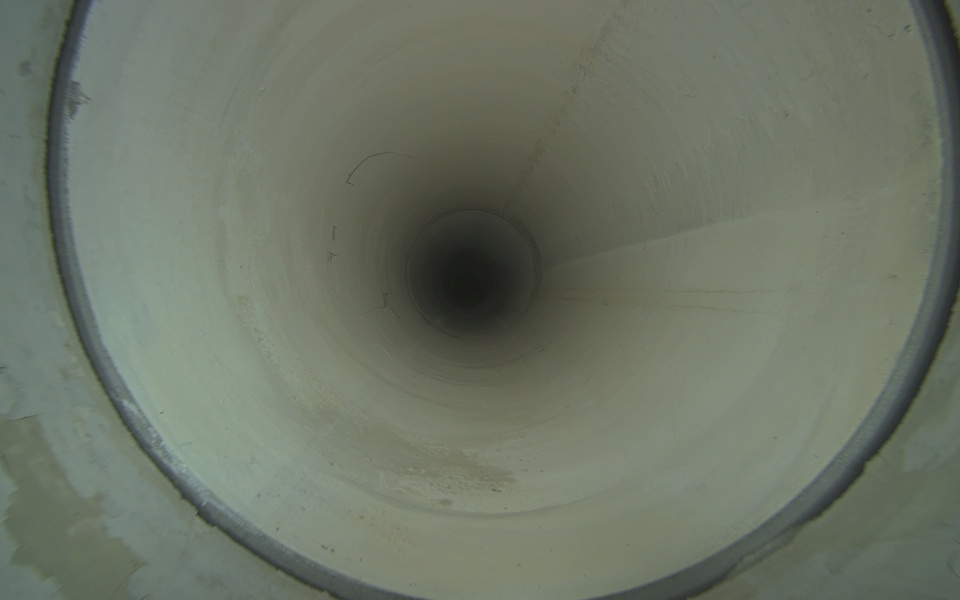circle1: (43, 0, 960, 600)
circle2: (442, 248, 496, 303)
